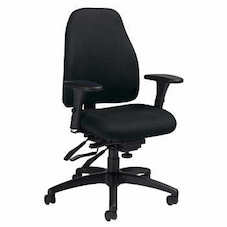chair: (29, 5, 195, 215)
